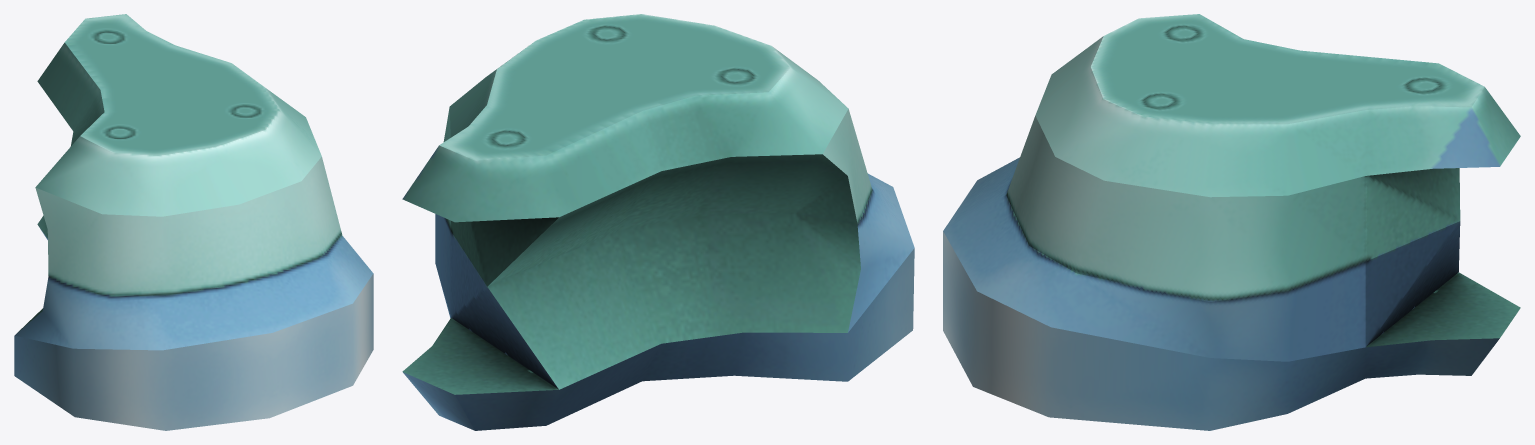
The model's file is Thigh_Left.obj.
3 renders of one model, left to right at view 1: azimuth 30°, elevation 25°; view 2: azimuth 150°, elevation 25°; view 3: azimuth 270°, elevation 25°, orthographic. The views are drawn at different scales.
Visible parts, largest first — view 1: Thigh_Left; view 2: Thigh_Left; view 3: Thigh_Left.
Boxes of the visible parts, <box> form: Thigh_Left: <box>14,14,373,430</box>; Thigh_Left: <box>402,14,914,430</box>; Thigh_Left: <box>943,14,1520,430</box>.
Size of the model in its own units: 0.2013 by 0.1348 by 0.263.
Materials: 1 (1 with a texture image).
